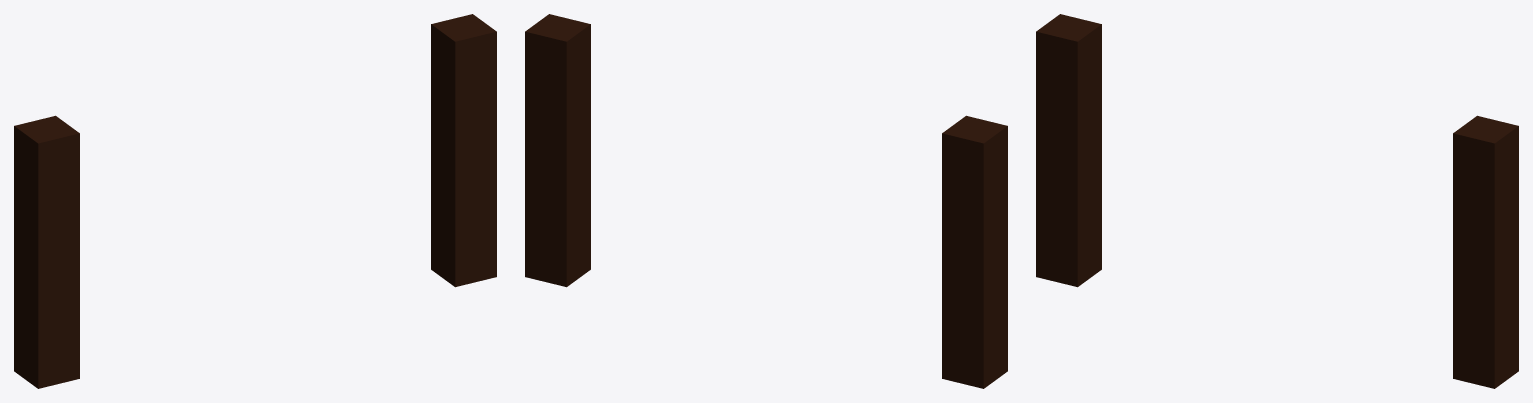
Rendered from Railing-2x1-Post-Double-Ends.FBX.
3 renders of one model, left to right at view 1: azimuth 30°, elevation 25°; view 2: azimuth 150°, elevation 25°; view 3: azimuth 330°, elevation 25°, orthographic.
Parts seen in each view (by area): view 1: Railing-2x1-Post-Double-Ends; view 2: Railing-2x1-Post-Double-Ends; view 3: Railing-2x1-Post-Double-Ends.
Boxes of the visible parts, left/top/right/bottom form: Railing-2x1-Post-Double-Ends: left=14, top=14, right=496, bottom=388; Railing-2x1-Post-Double-Ends: left=525, top=14, right=1007, bottom=388; Railing-2x1-Post-Double-Ends: left=1036, top=14, right=1518, bottom=388.
Bounding box in the file's own units: 22 × 2 × 11.25.
